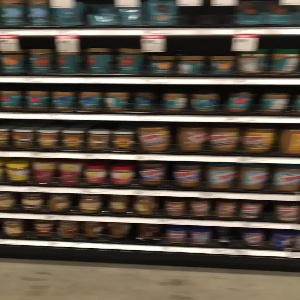void: (178, 1, 233, 29), (212, 226, 242, 251)
